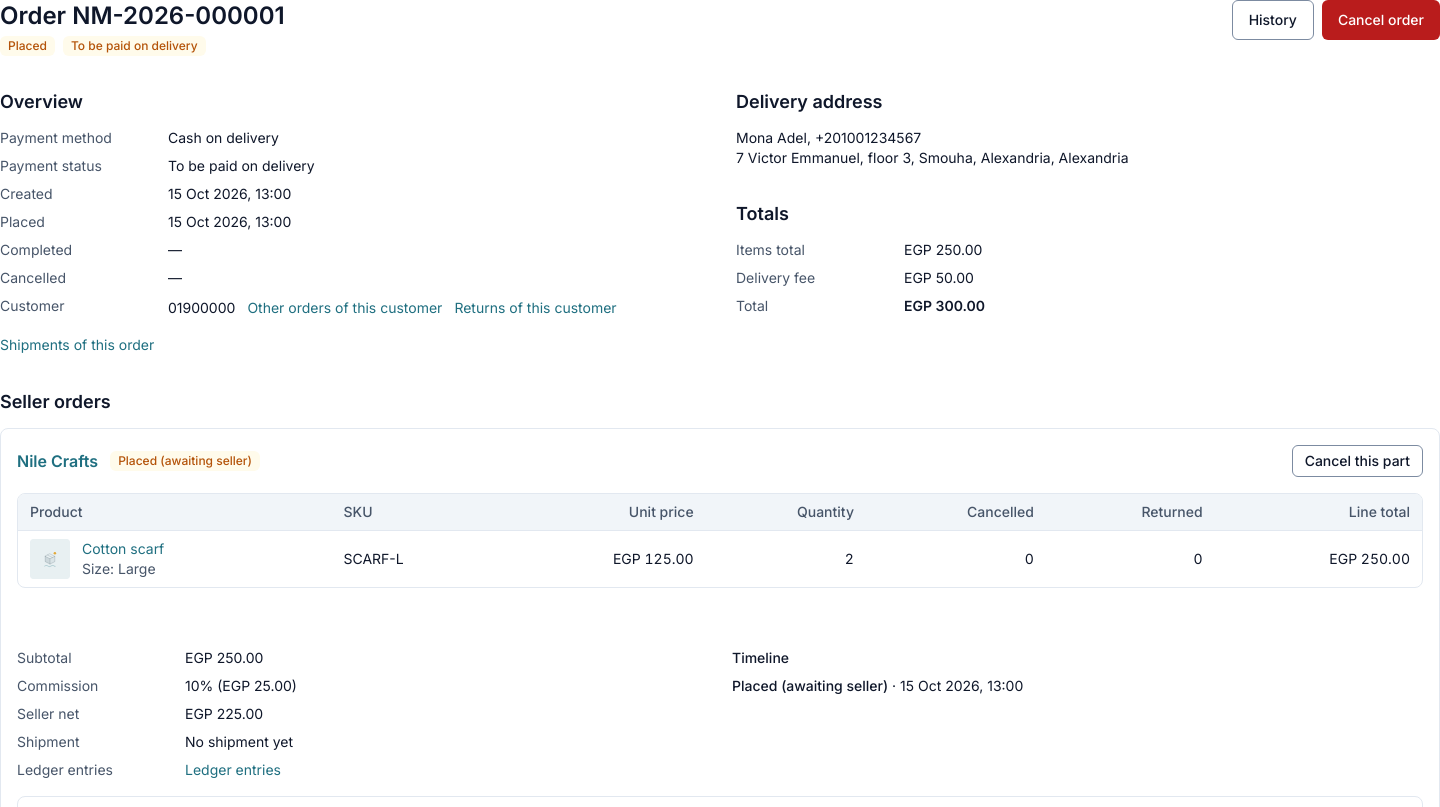
Test: admin cancellation (spec 03 §7.3 AD-15 A1 / A2, T-M3) › A1: reason required, a summary to confirm, sent once with a key; the answer replaces the order
Click the button with aria-label "Cancel Nile Crafts's part": click(1357, 461) [1292,445,1423,477]
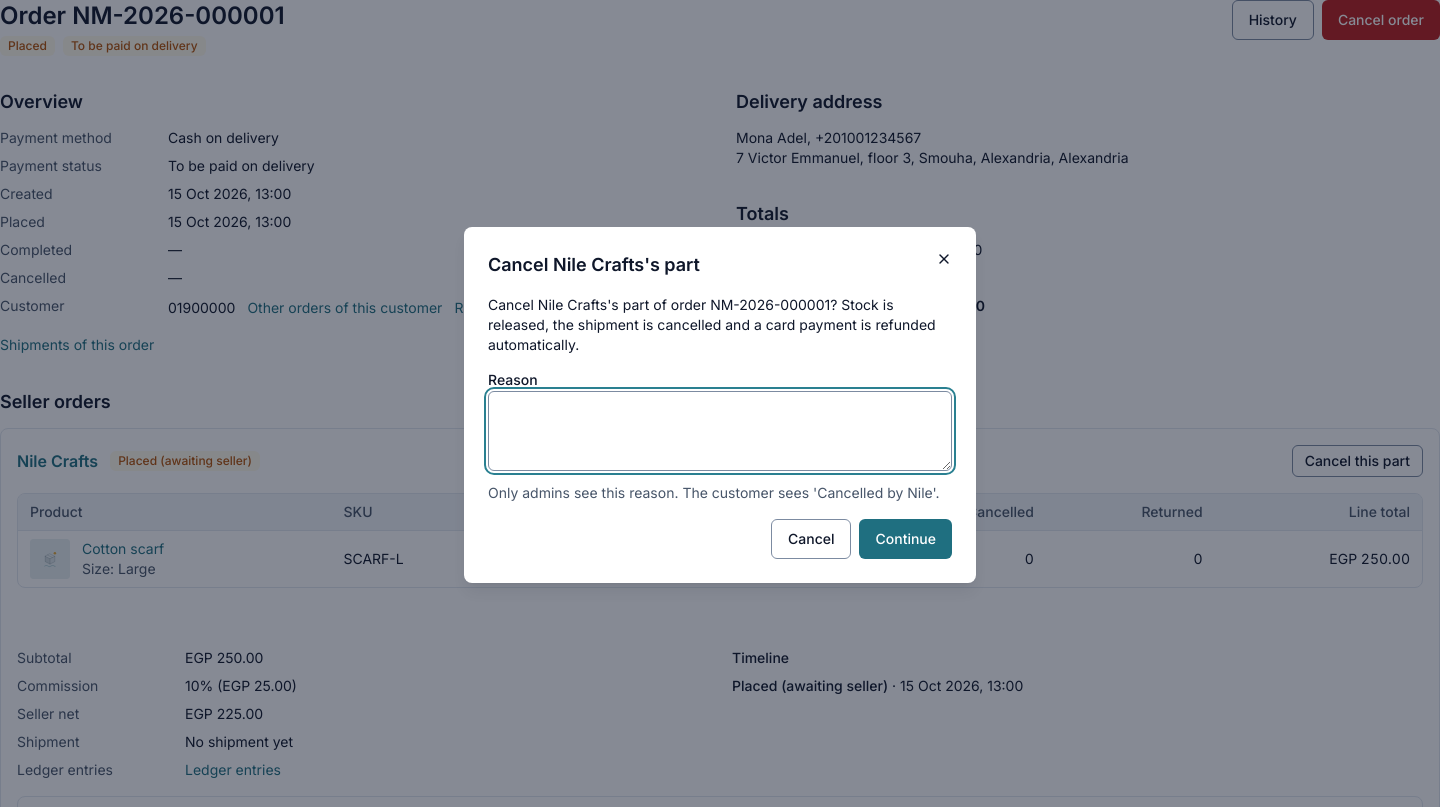
expect the text "Stock is released, the shipment is cancelled" is shown: met, box [488,296,936,353]
expect the text "Only admins see this reason. The customer sees 'Cancelled by Nile'." is shown: met, box [488,483,952,503]
Click the button "Continue": click(906, 539) [860,519,952,559]
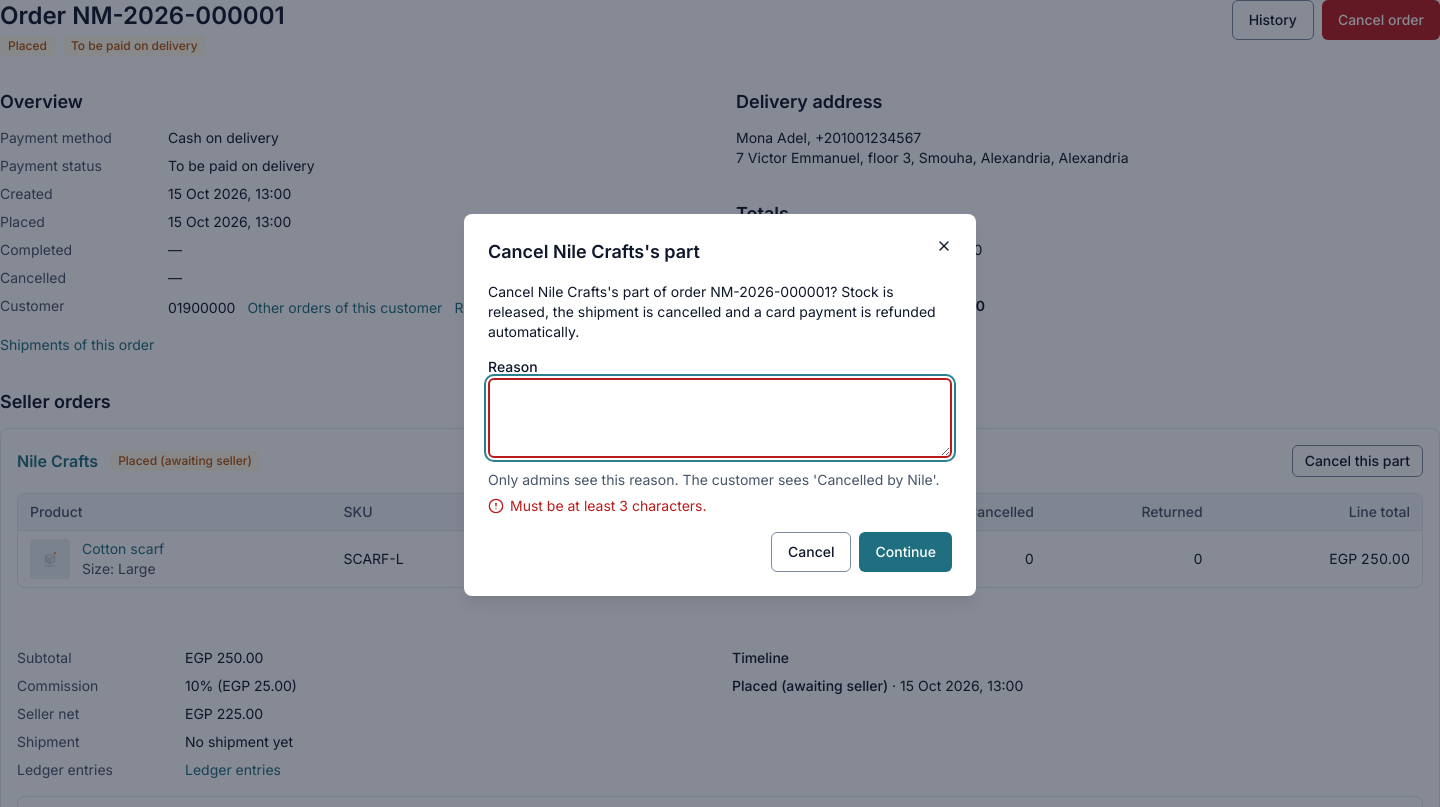
expect the text "Must be at least 3 characters." is shown: met, box [488,497,706,514]
In the text box labelled "Reason": (720, 418) [488,378,952,458], type "  Seller closed  "
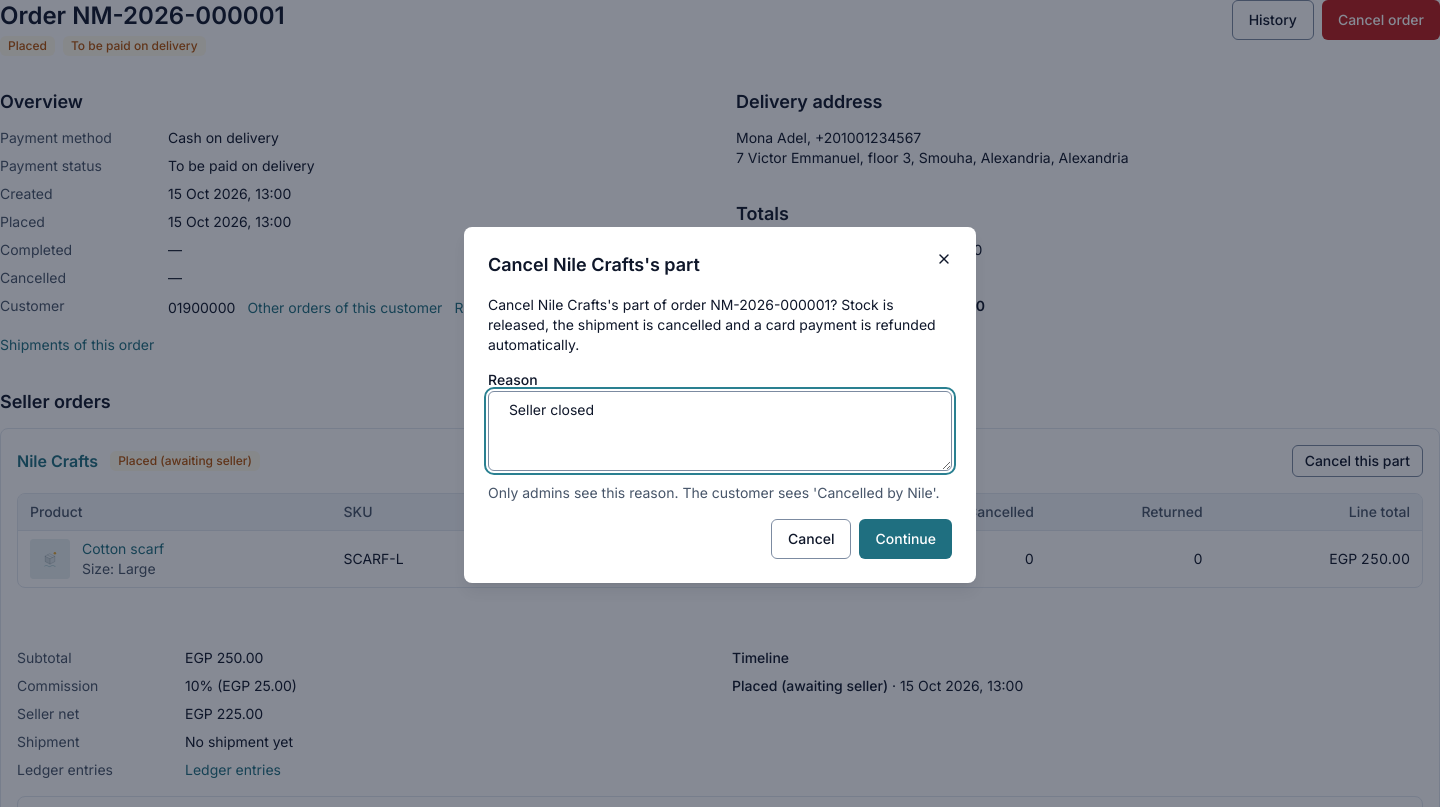
Click the button "Continue": click(906, 539) [860,519,952,559]
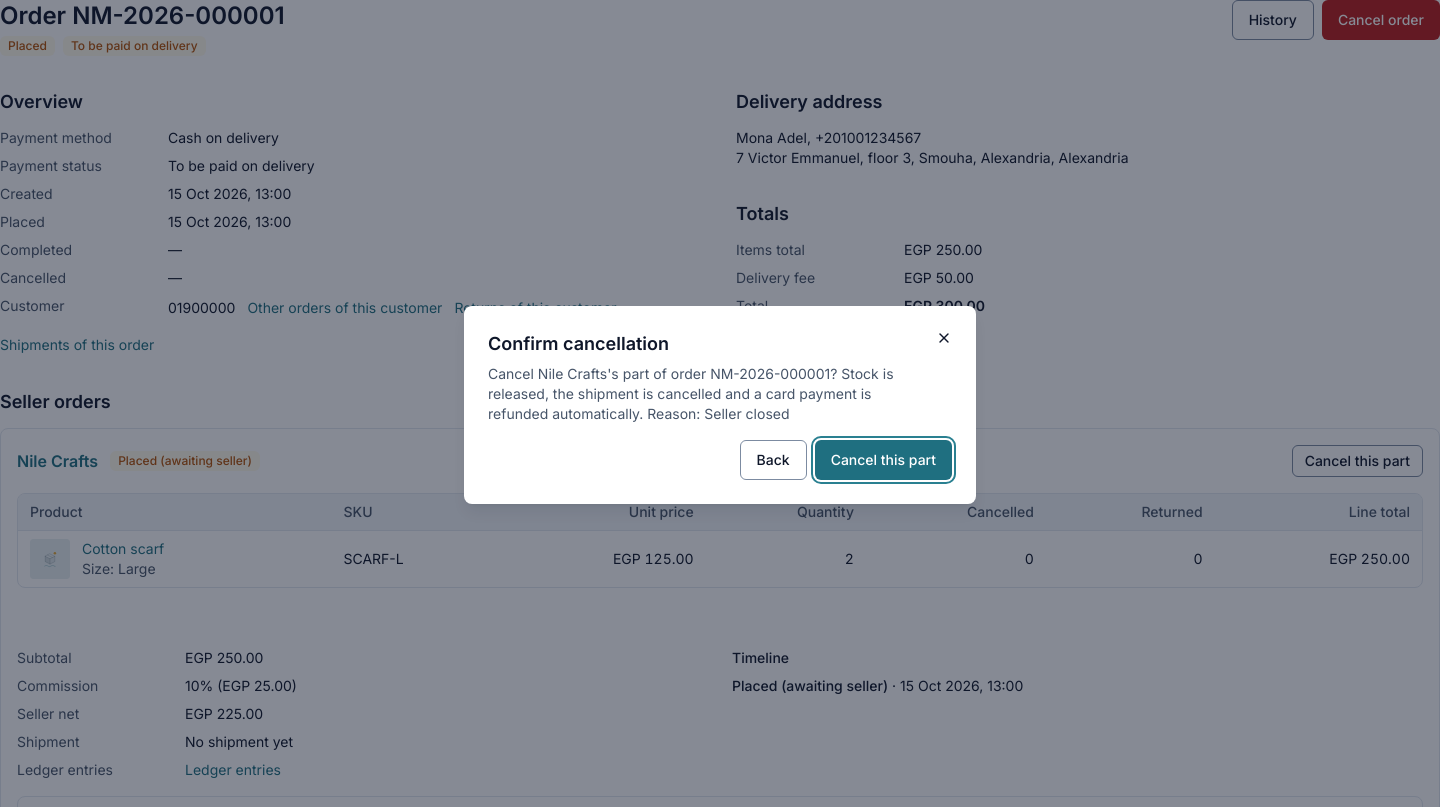
expect the text "Reason: Seller closed" is shown: met, box [488,365,894,422]
Click the button "Cancel this part": click(883, 460) [815,440,952,480]
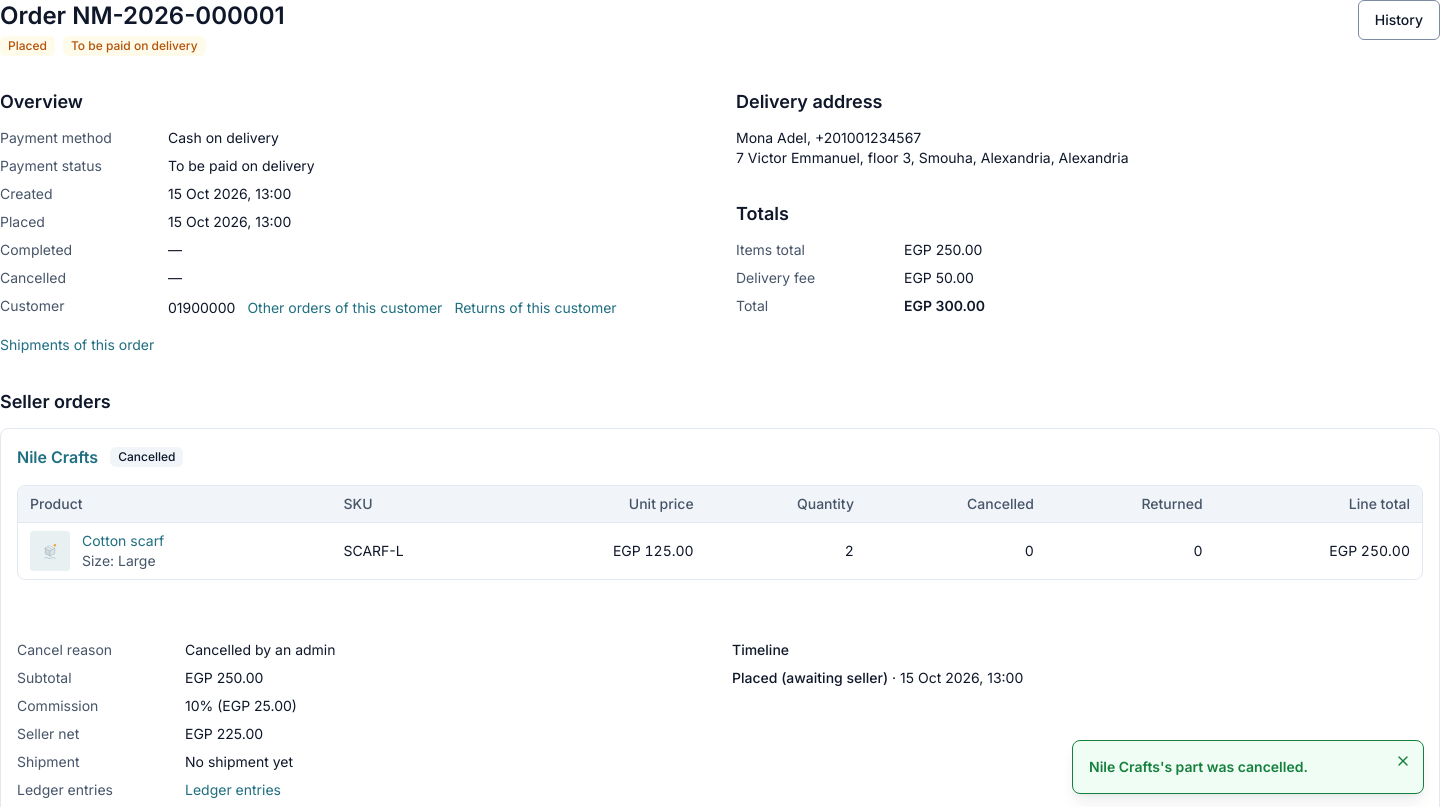
expect the text "Nile Crafts's part was cancelled." is shown: met, box [1089,758,1308,775]
expect the text "Cancelled by an admin" is shown: met, box [185,641,336,658]
